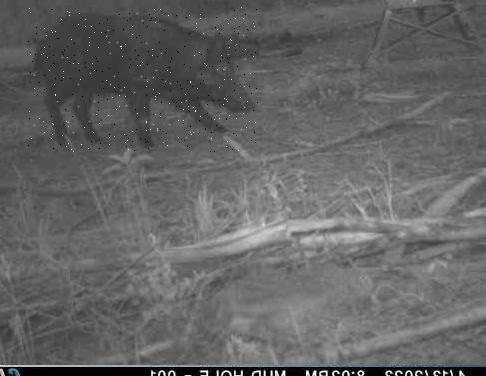Hog: (27, 7, 257, 152)
